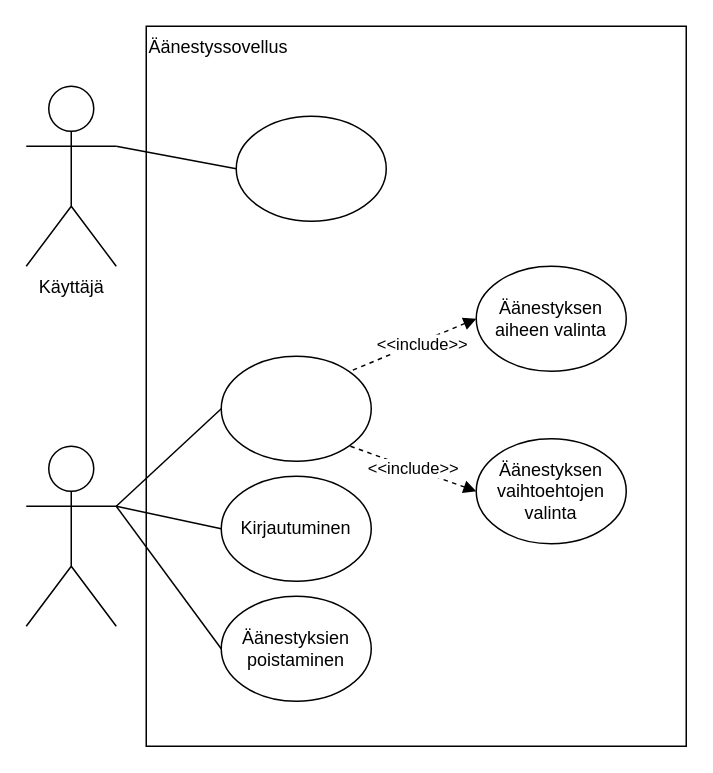
Image size: 713x773. Some labels were removed from this diagram. Here are the shapes that lost their labels. From the top down, the centre of each, then its label:
At point (310, 168): "Äänestäminen".
At point (295, 408): "Äänestyksien luominen".
At point (70, 535): "Ylläpitäjä".
